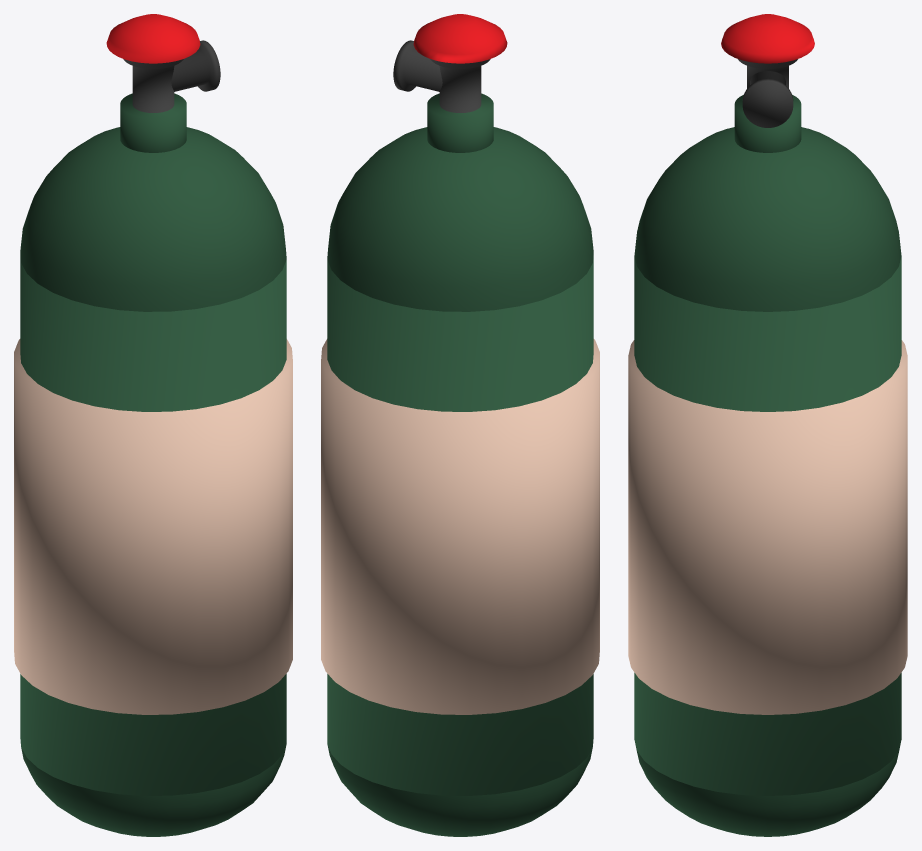
The model's file is oxygentank.fbx.
3 renders of one model, left to right at view 1: azimuth 30°, elevation 25°; view 2: azimuth 150°, elevation 25°; view 3: azimuth 270°, elevation 25°, orthographic.
Parts seen in each view (by area): view 1: Cylinder; view 2: Cylinder; view 3: Cylinder.
Boxes of the visible parts, bbox=[...] form: Cylinder: bbox=[14, 14, 292, 836]; Cylinder: bbox=[321, 14, 599, 836]; Cylinder: bbox=[628, 14, 907, 836].
Bounding box in the file's own units: 209 × 661 × 209.
